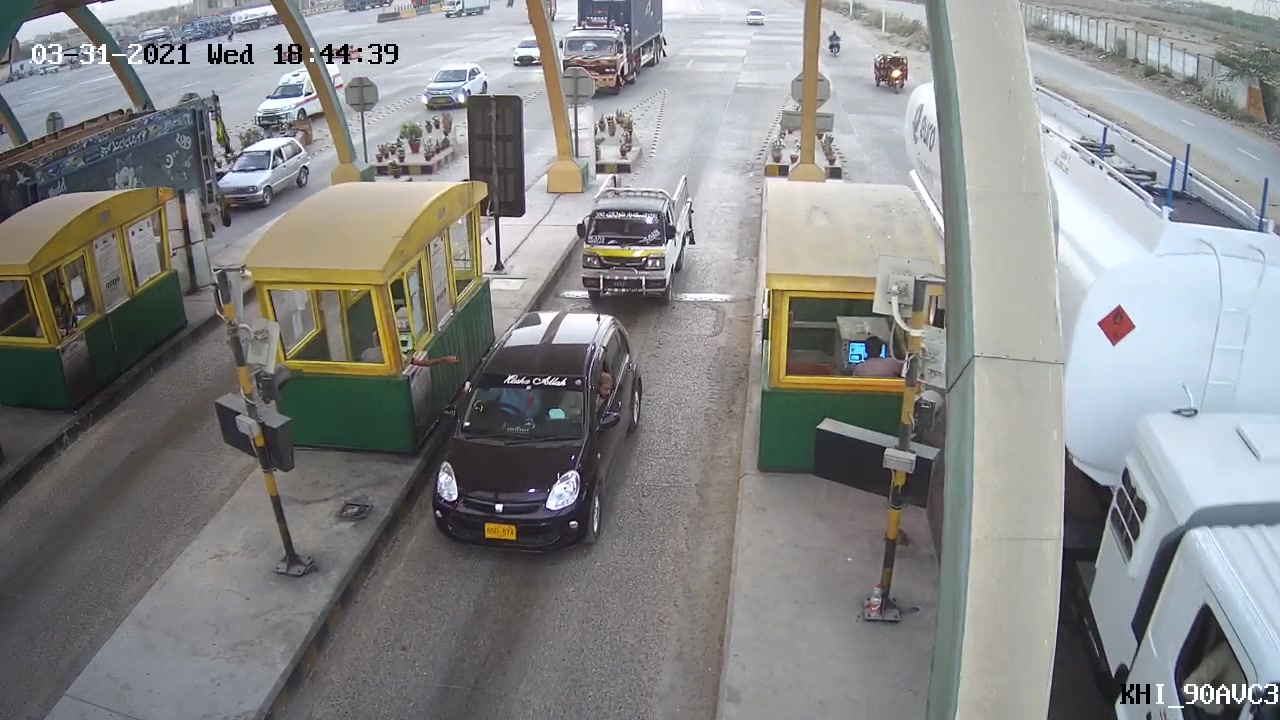F1: (412, 310, 649, 564)
F2: (573, 174, 698, 311)
